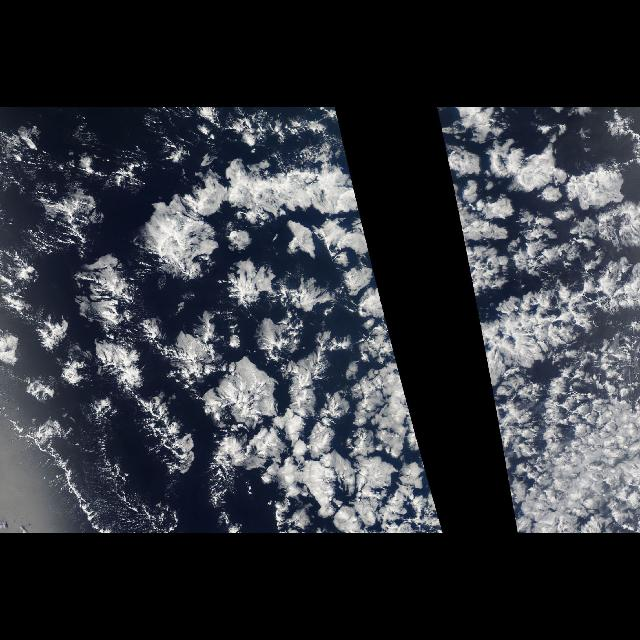Flower: (1, 109, 443, 533), (436, 109, 640, 532)
